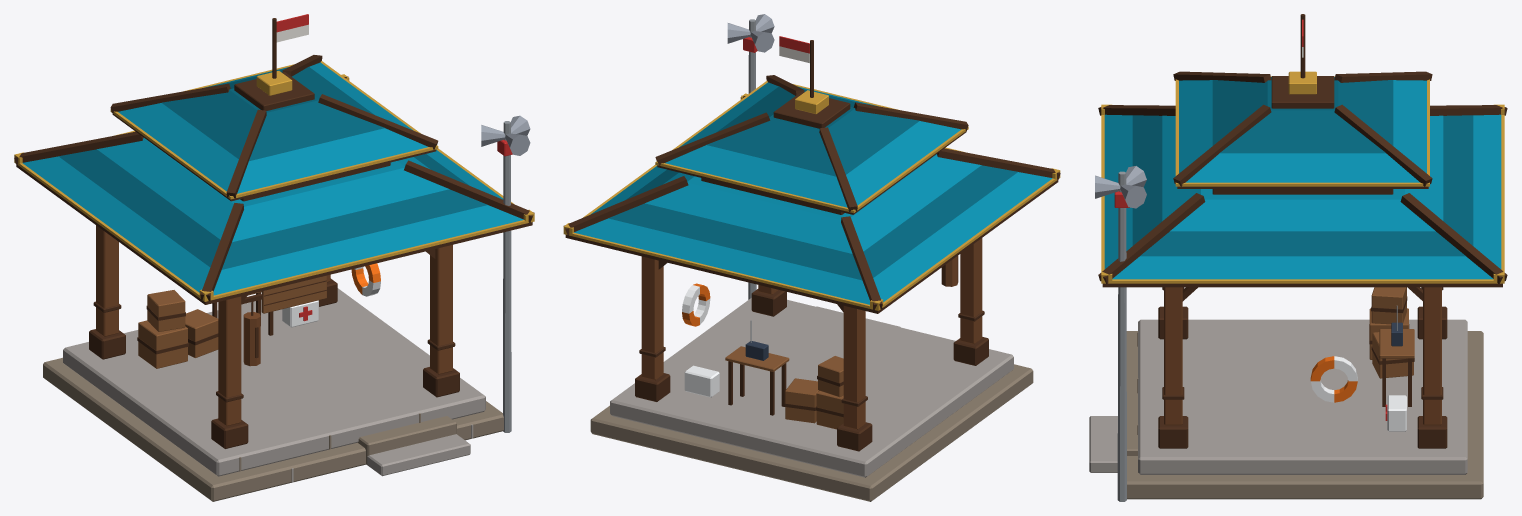
The model's file is pos_siaga_v001.glb.
3 views of the same model, side by side, from view 1: azimuth 30°, elevation 25°; view 2: azimuth 150°, elevation 25°; view 3: azimuth 270°, elevation 25° (orthographic). The views are drawn at different scales.
Parts seen in each view (by area): view 1: Pos_Siaga, Papan_Nama; view 2: Pos_Siaga; view 3: Pos_Siaga.
Boxes of the visible parts, x1=… form: Pos_Siaga: x1=14, y1=14, x2=534, y2=501; Papan_Nama: x1=261, y1=275, x2=326, y2=313; Pos_Siaga: x1=563, y1=14, x2=1060, y2=501; Pos_Siaga: x1=1089, y1=14, x2=1507, y2=501.
Size of the model in its own units: 5.29 by 5.75 by 5.33.
